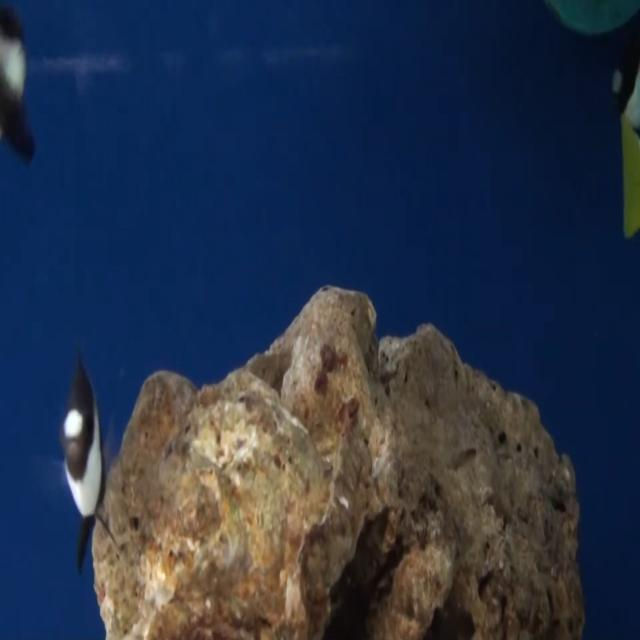ThreeStripedDamselfish: (63, 357, 116, 564)
